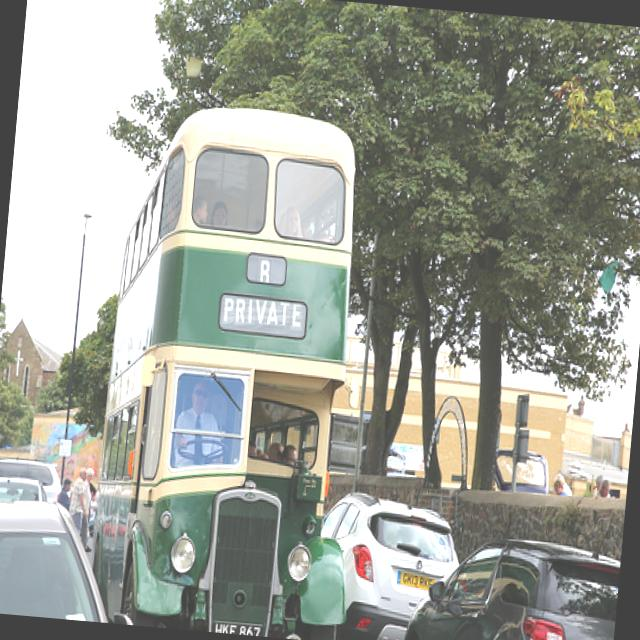Vehicle: (87, 98, 384, 640), (400, 532, 621, 640), (308, 488, 462, 640), (0, 490, 153, 625), (0, 446, 63, 511)
